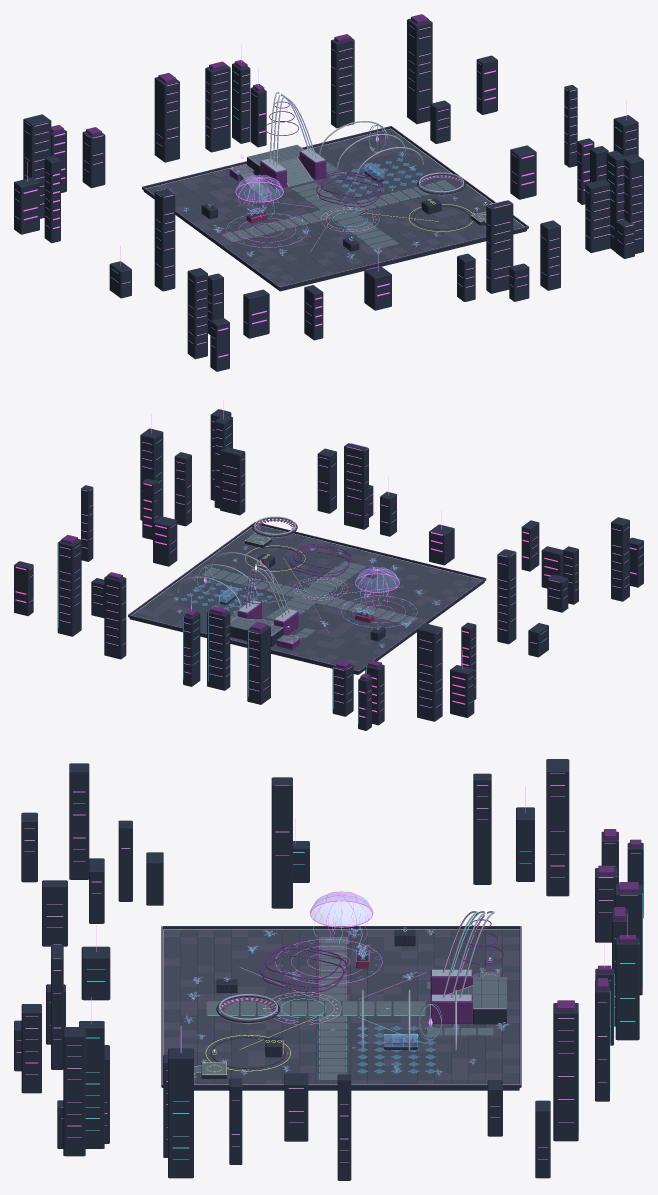
Rendered from neon-world.glb.
The picture shows the model from 3 angles, top to bottom: view 1: azimuth 30°, elevation 25°; view 2: azimuth 150°, elevation 25°; view 3: azimuth 270°, elevation 25°; orthographic projection. The views are drawn at different scales.
Visible parts, largest first — view 1: NEON / Midnight titanium, NEON / Wet obsidian pavers, NEON / Wet indigo pavers, NEON / Pearlescent route alloy, NEON / Violet photon strips, NEON / Amethyst architectural enamel, NEON / Brushed pale titanium, NEON / Rose photon strips, NEON / Lucent membrane, NEON / Optical blue crystal, NEON / Cyan photon strips; view 2: NEON / Midnight titanium, NEON / Wet obsidian pavers, NEON / Wet indigo pavers, NEON / Pearlescent route alloy, NEON / Violet photon strips, NEON / Amethyst architectural enamel, NEON / Brushed pale titanium, NEON / Rose photon strips, NEON / Lucent membrane, NEON / Cyan photon strips, NEON / Optical blue crystal; view 3: NEON / Midnight titanium, NEON / Wet obsidian pavers, NEON / Wet indigo pavers, NEON / Pearlescent route alloy, NEON / Amethyst architectural enamel, NEON / Brushed pale titanium, NEON / Violet photon strips, NEON / Lucent membrane, NEON / Cyan photon strips, NEON / Rose photon strips, NEON / Optical blue crystal, NEON / Holographic fern blades.
Boxes of the visible parts, x1,y1,x2,y2 form: NEON / Midnight titanium: (14,18,643,371); NEON / Wet obsidian pavers: (146,129,524,284); NEON / Wet indigo pavers: (155,133,520,286); NEON / Pearlescent route alloy: (222,144,486,249); NEON / Violet photon strips: (25,25,642,347); NEON / Amethyst architectural enamel: (51,14,463,248); NEON / Brushed pale titanium: (236,92,485,228); NEON / Rose photon strips: (23,70,592,357); NEON / Lucent membrane: (235,163,384,201); NEON / Optical blue crystal: (329,158,428,196); NEON / Cyan photon strips: (15,71,621,286); NEON / Midnight titanium: (14,409,643,730); NEON / Wet obsidian pavers: (132,525,476,670); NEON / Wet indigo pavers: (136,529,482,665); NEON / Pearlescent route alloy: (202,531,417,643); NEON / Violet photon strips: (30,400,642,711); NEON / Amethyst architectural enamel: (61,518,383,679); NEON / Brushed pale titanium: (177,516,299,641); NEON / Rose photon strips: (15,483,636,717); NEON / Lucent membrane: (219,567,399,602); NEON / Cyan photon strips: (58,425,546,723); NEON / Optical blue crystal: (181,580,274,613); NEON / Midnight titanium: (14,759,643,1180); NEON / Wet obsidian pavers: (163,929,519,1084); NEON / Wet indigo pavers: (163,929,519,1084); NEON / Pearlescent route alloy: (194,937,506,1079); NEON / Amethyst architectural enamel: (219,829,641,1054); NEON / Brushed pale titanium: (208,911,497,1072); NEON / Violet photon strips: (16,773,640,1162); NEON / Lucent membrane: (309,891,417,1046); NEON / Cyan photon strips: (50,840,643,1159); NEON / Rose photon strips: (275,892,496,1000); NEON / Optical blue crystal: (357,1025,435,1073); NEON / Holographic fern blades: (184,927,509,1077).
Bounding box in the file's own units: 174 × 38.71 × 149.
